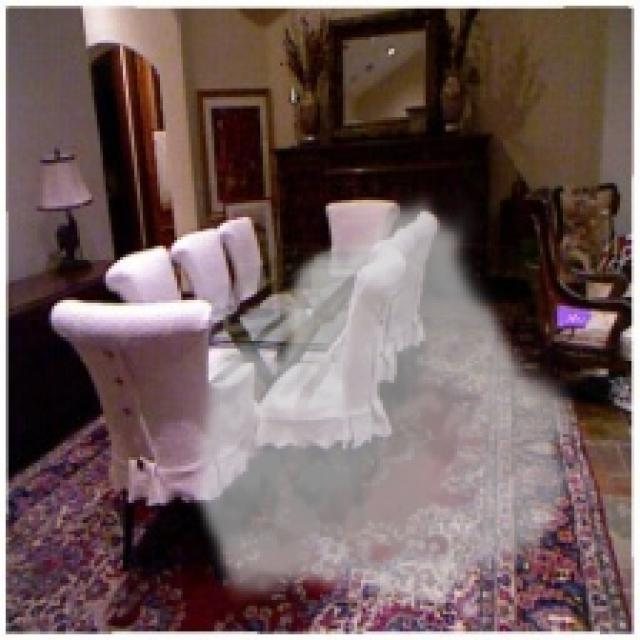smoke: (185, 192, 586, 614)
